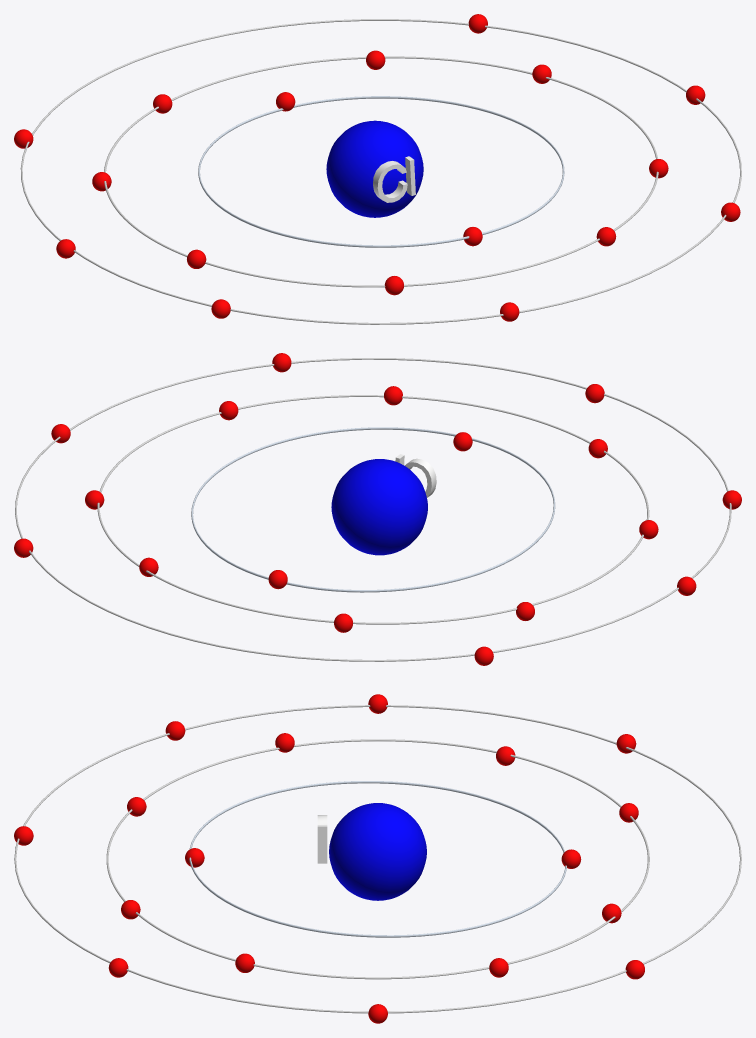
Rendered from WasserstoffAtom.gltf.
3 renders of one model, top to bottom at view 1: azimuth 30°, elevation 25°; view 2: azimuth 150°, elevation 25°; view 3: azimuth 270°, elevation 25°, orthographic.
Parts seen in each view (by area): view 1: Sphere, Torus3, Torus2, Torus, Text; view 2: Sphere, Torus3, Torus2, Torus, Text; view 3: Sphere, Torus3, Torus2, Torus.
Boxes of the visible parts, box(x1,y1,x2,y2) form: Sphere: box(326, 120, 423, 217); Torus3: box(20, 19, 741, 324); Torus2: box(104, 56, 658, 287); Torus: box(198, 96, 564, 247); Text: box(373, 156, 415, 202); Sphere: box(331, 459, 427, 555); Torus3: box(15, 358, 731, 661); Torus2: box(97, 395, 649, 624); Torus: box(191, 427, 555, 592); Text: box(395, 454, 436, 497); Sphere: box(329, 803, 426, 900); Torus3: box(14, 705, 741, 1013); Torus2: box(106, 739, 649, 979); Torus: box(189, 781, 566, 937).
Bounding box in the file's own units: 7.68 × 1 × 7.42.
